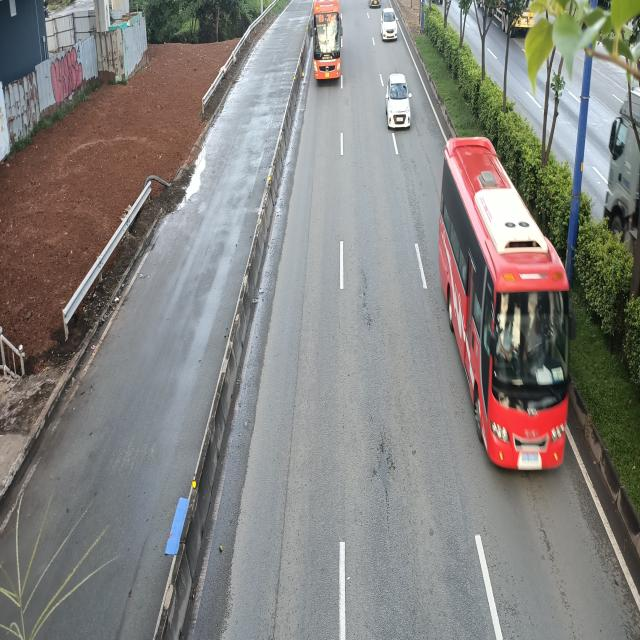car: (384, 74, 411, 132), (380, 8, 398, 42)
coach: (440, 132, 576, 472), (312, 0, 346, 83)
